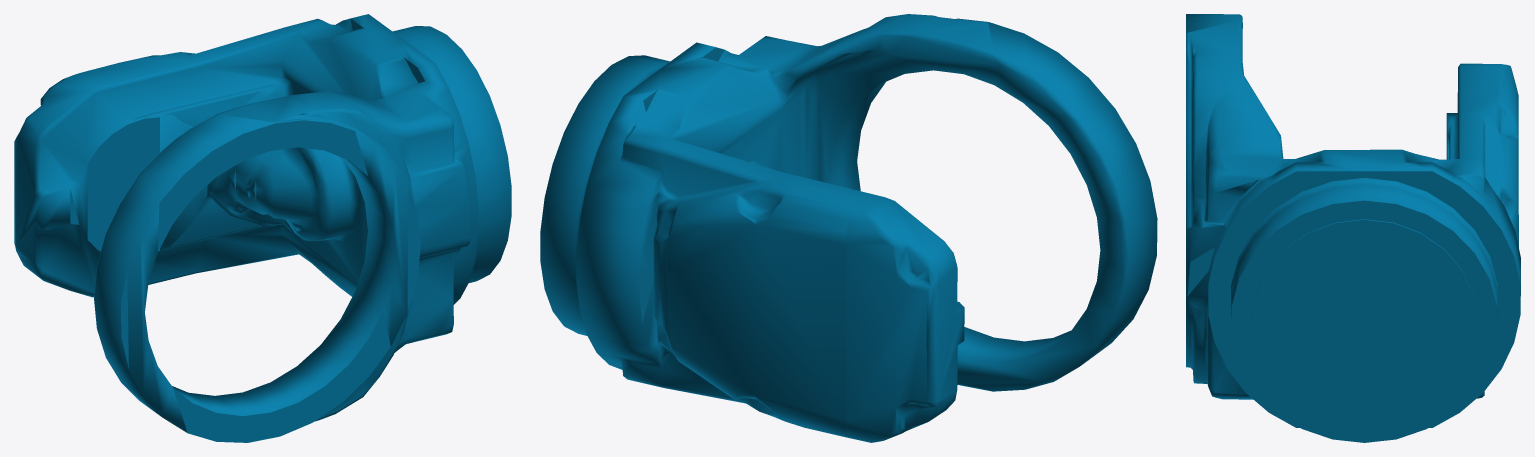
The picture shows the model from 3 angles, left to right: view 1: azimuth 30°, elevation 25°; view 2: azimuth 150°, elevation 25°; view 3: azimuth 270°, elevation 25°; orthographic projection. The views are drawn at different scales.
Visible parts, largest first — view 1: mh00215-j00_lk5; view 2: mh00215-j00_lk5; view 3: mh00215-j00_lk5.
Boxes of the visible parts, x1,y1,x2,y2 form: mh00215-j00_lk5: (14, 14, 511, 442); mh00215-j00_lk5: (540, 14, 1157, 442); mh00215-j00_lk5: (1186, 14, 1520, 442).
Size of the model in its own units: 0.345 by 0.2365 by 0.2499.
